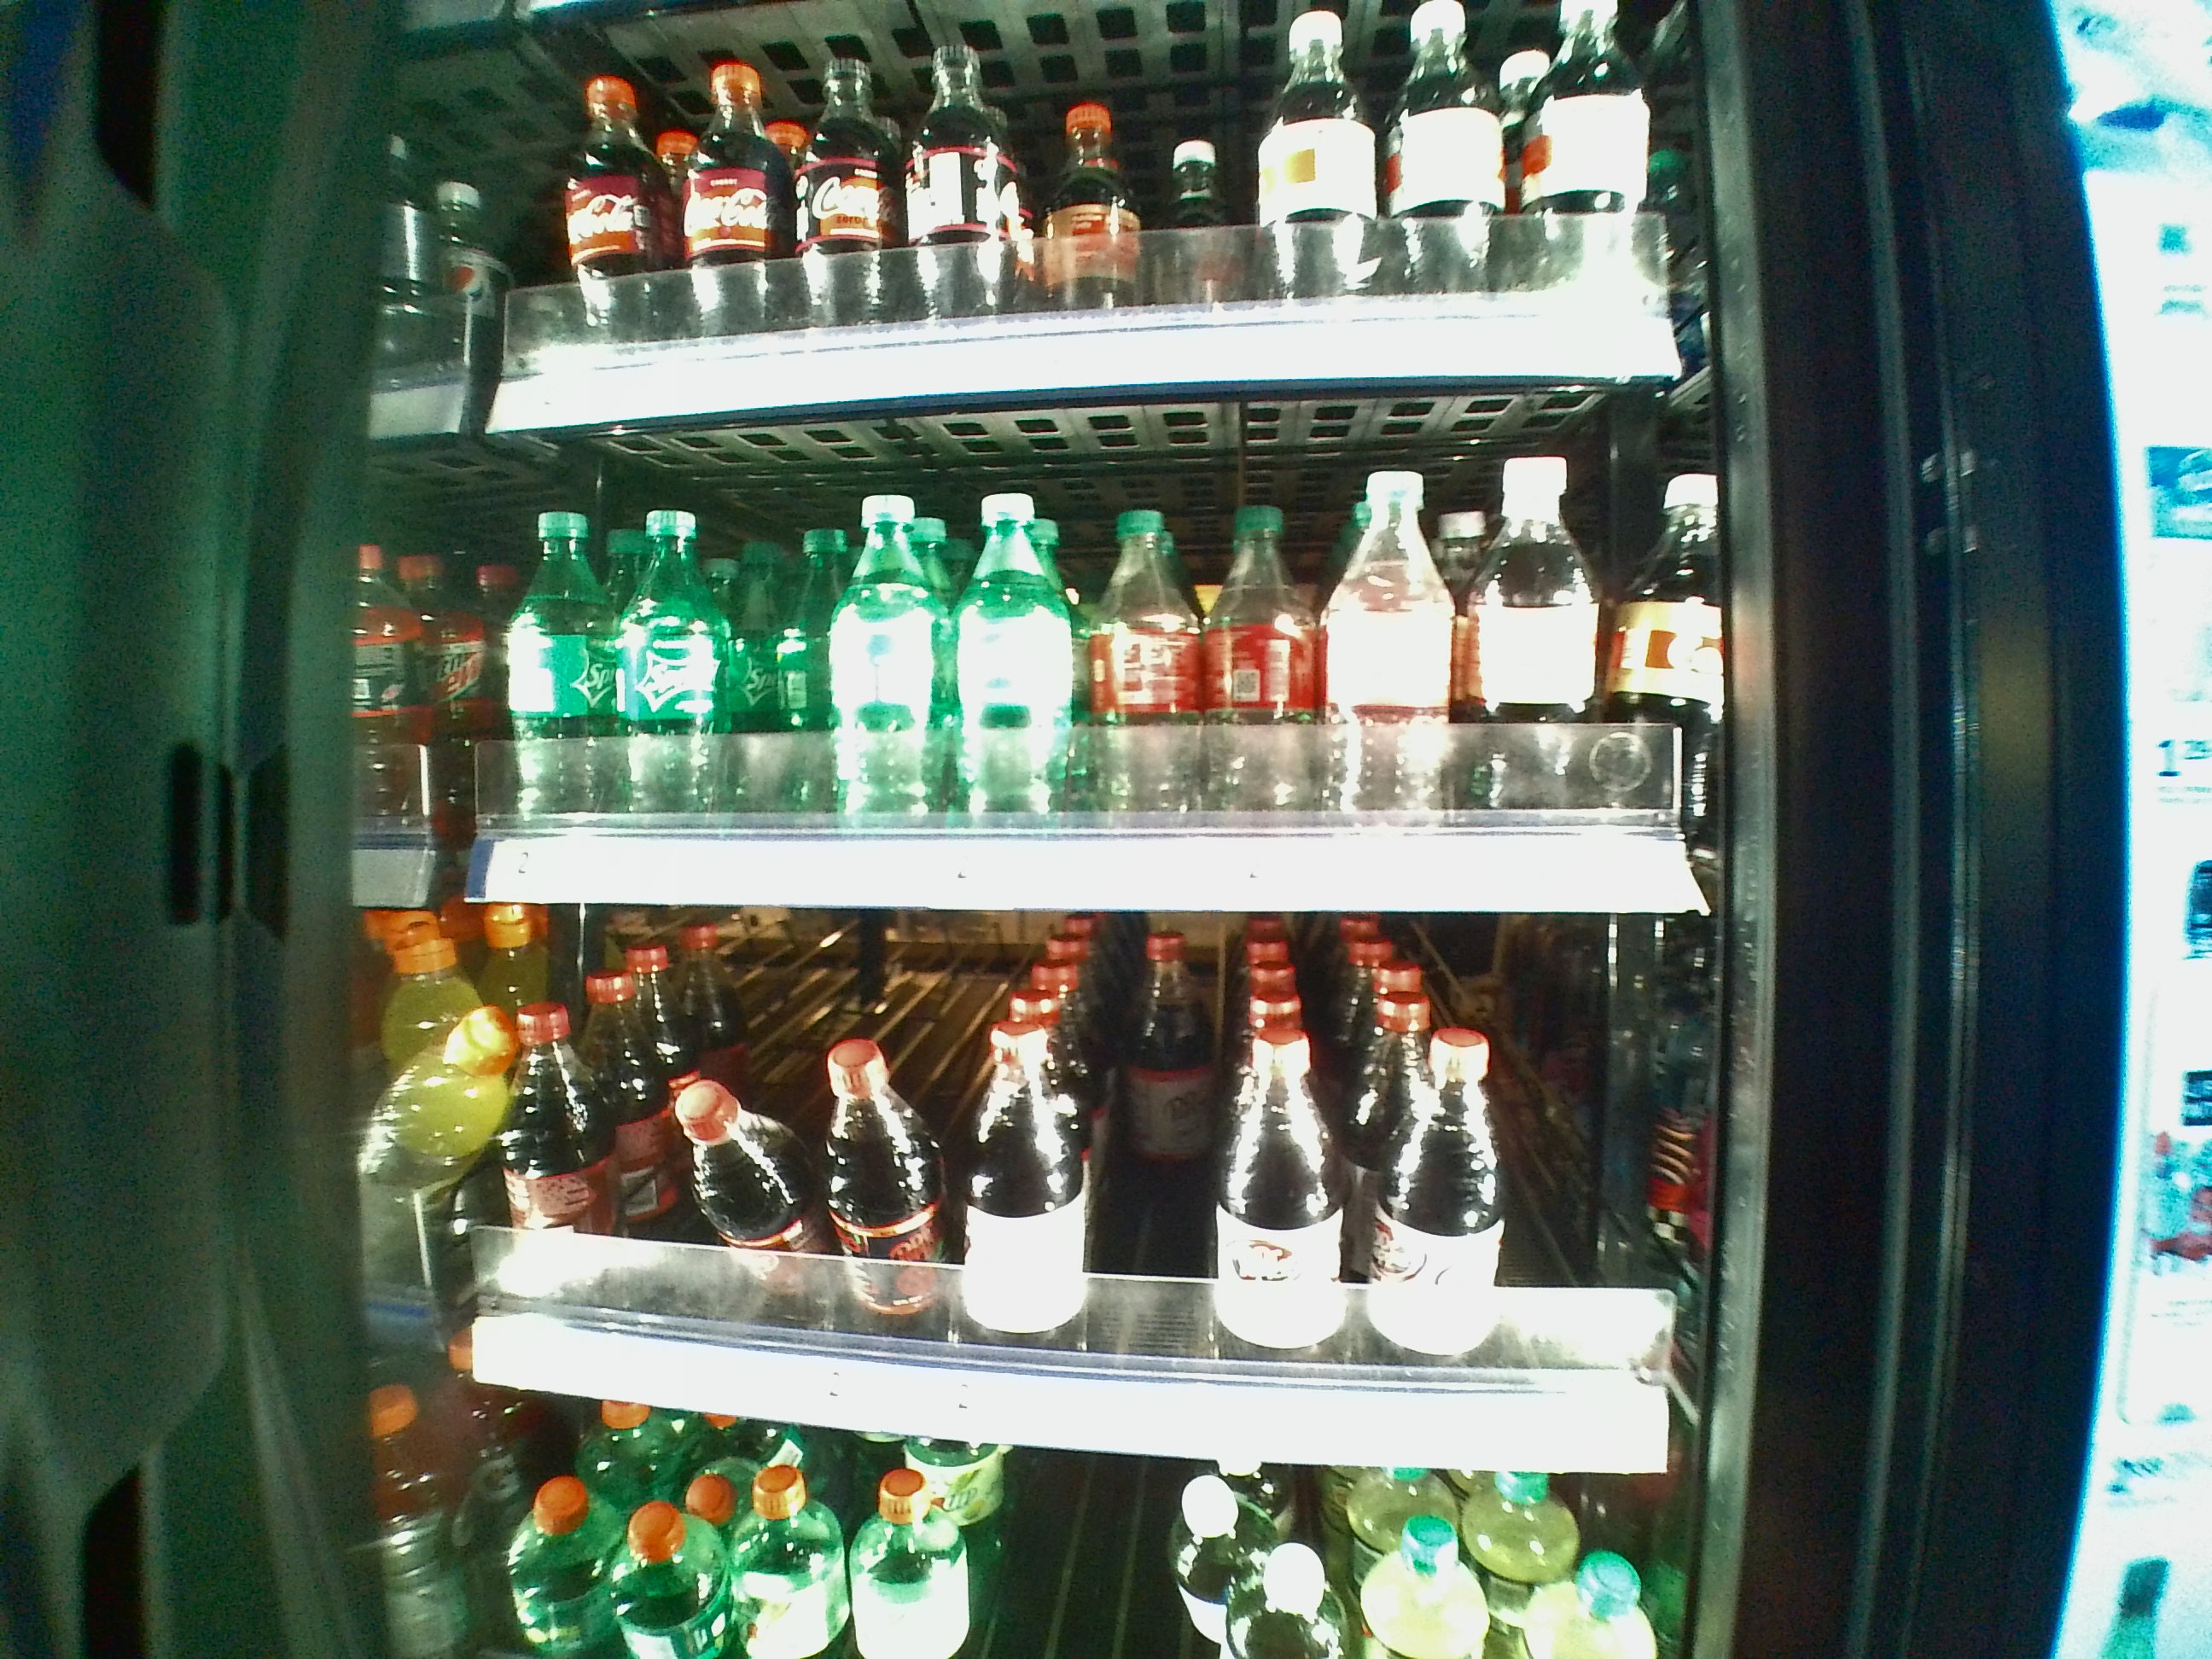shelf: (432, 899, 1714, 1481), (428, 430, 1712, 908)
